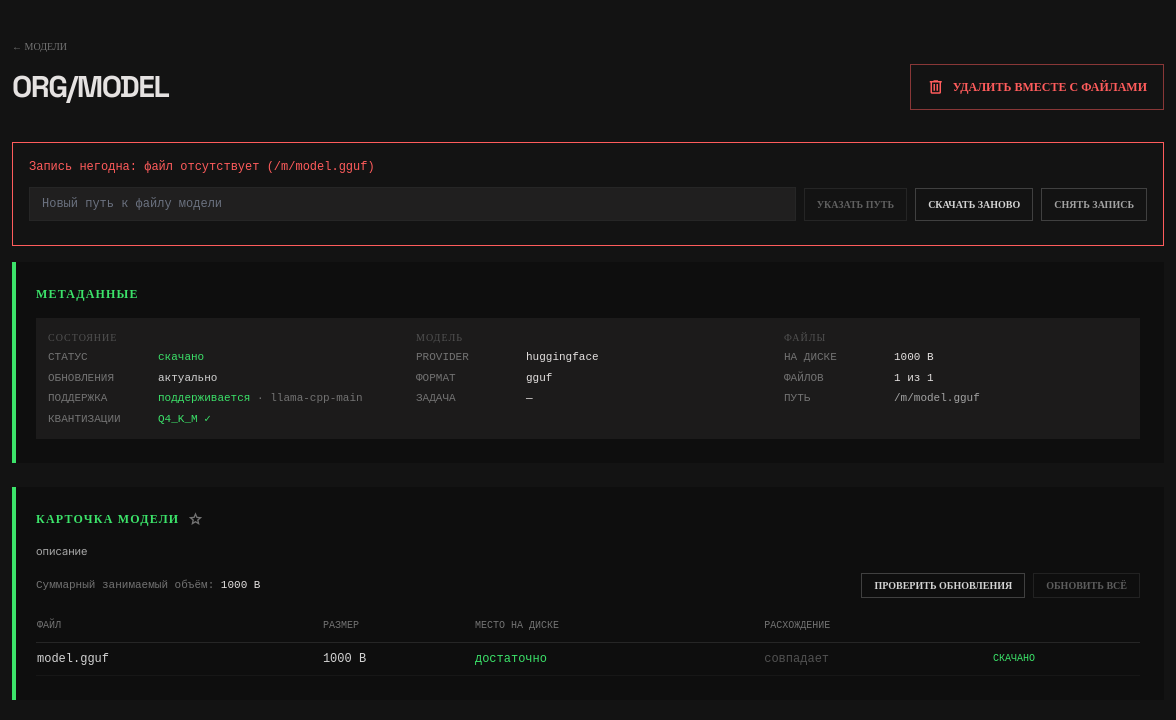
ModelDetailPage — ручное исправление негодной записи › исправляет путь из карточки
Expected: the element with test id "model-repair" is shown, top-left (12, 142), bottom-right (1164, 246)
Type "/data/models/model.gguf" into the field with test id "repair-path-input" at (412, 204), box top-left (29, 187), bottom-right (796, 221)
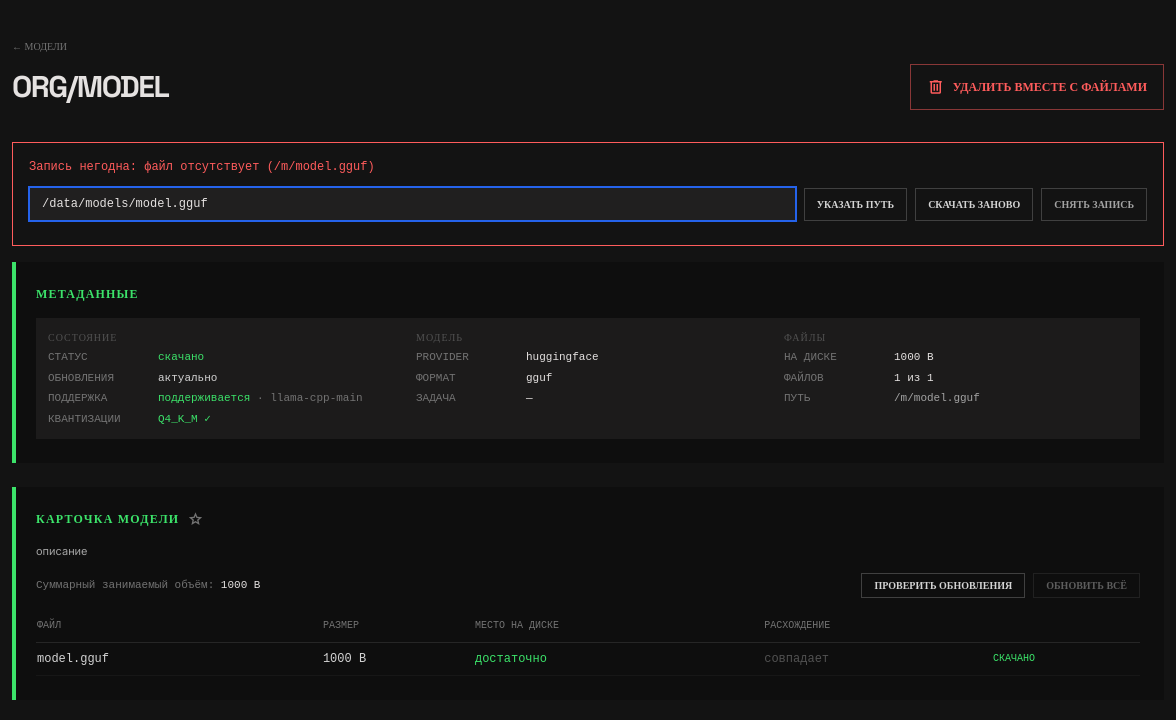
Click the button with test id "repair-apply-path" at (855, 204), box top-left (804, 188), bottom-right (907, 220)
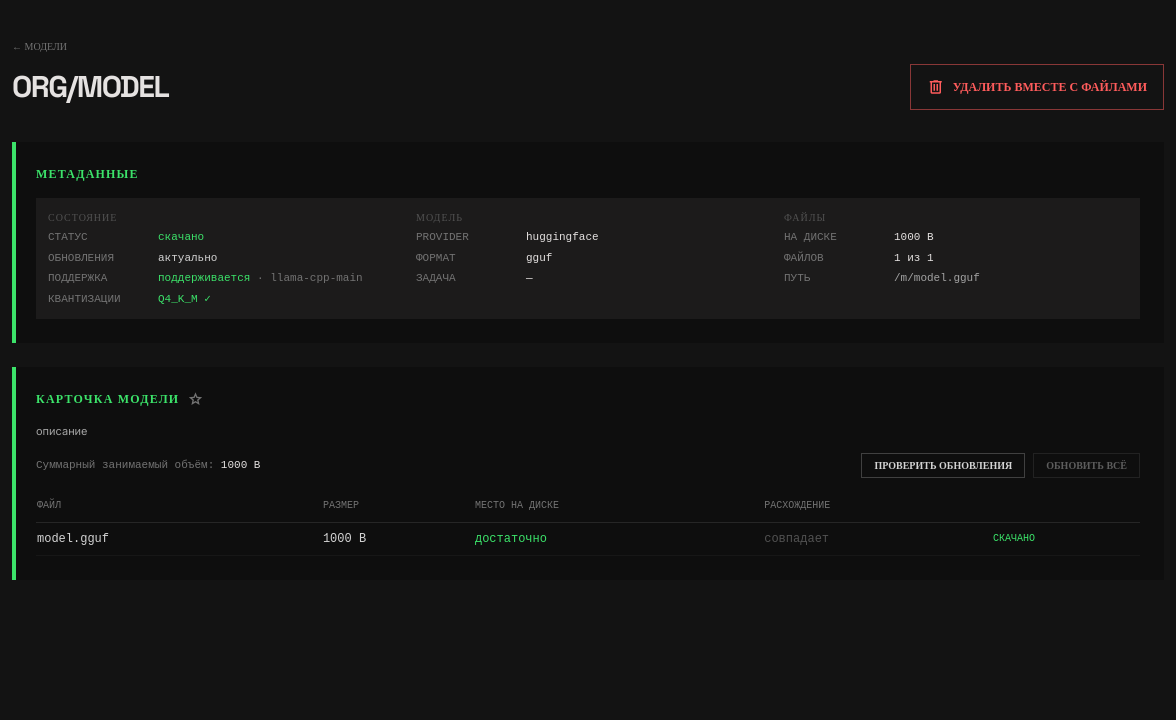
Expected: the element with test id "model-repair" is gone
